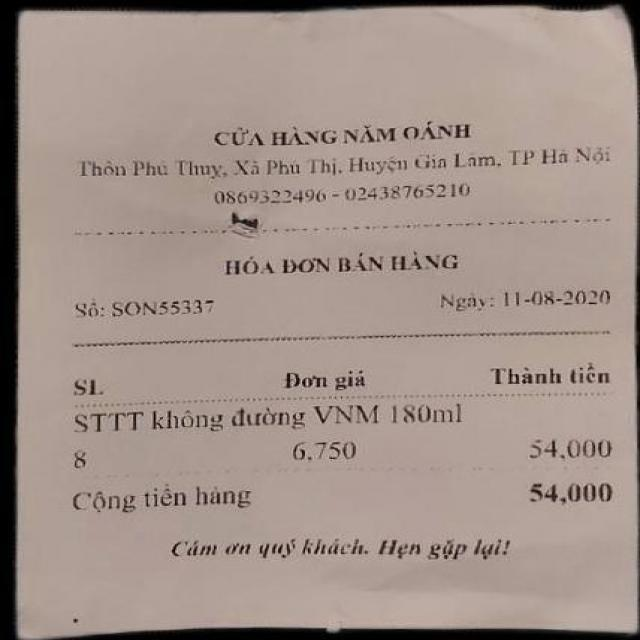Store_Name: (186, 102, 516, 150), (498, 284, 628, 318)
amount_number: (516, 473, 622, 512)
label_total: (66, 482, 256, 513)
